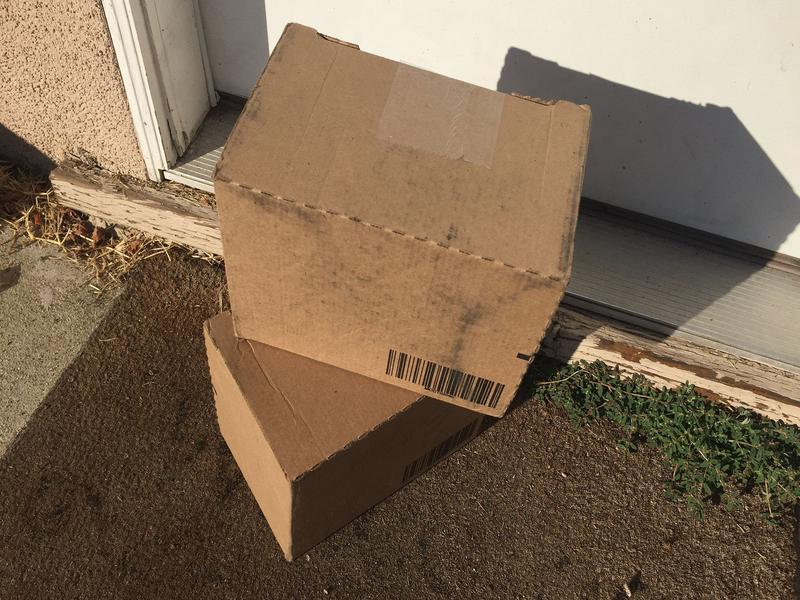package: (208, 16, 602, 431), (194, 315, 490, 567)
